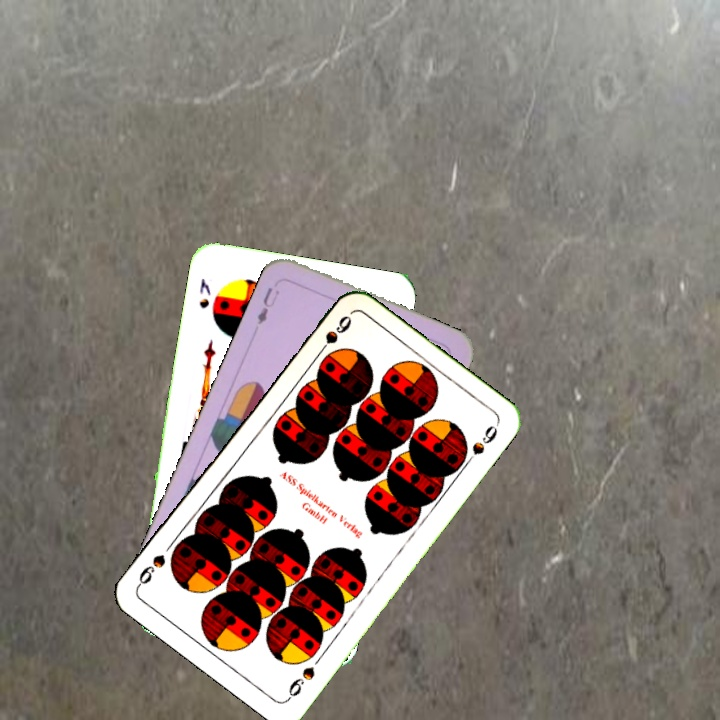EU: (253, 283, 282, 327)
S9: (311, 311, 355, 361), (283, 662, 318, 703)
SK: (195, 274, 213, 311)
